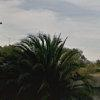Palm tree: (14, 25, 79, 93)
